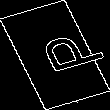P_W: (15, 29, 95, 81)
